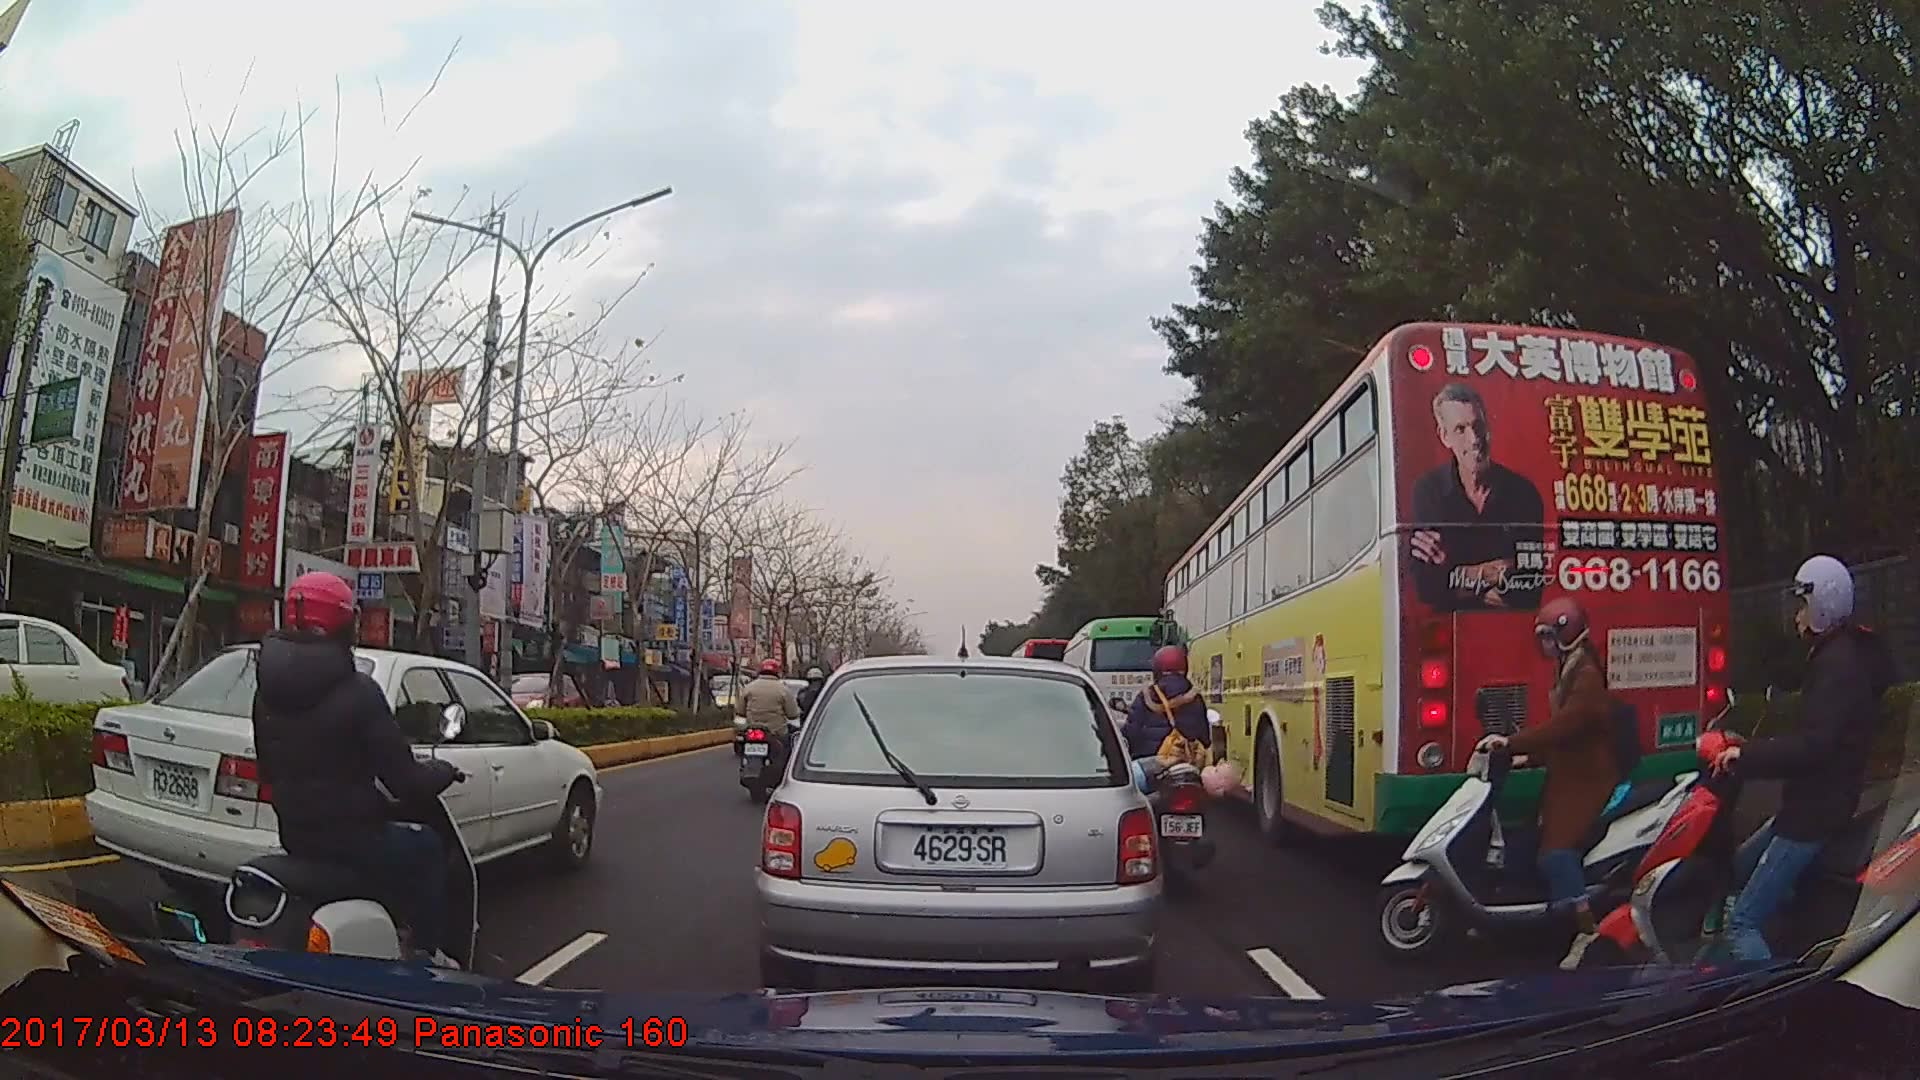rider: (1597, 556, 1918, 1007), (1363, 593, 1711, 970), (225, 567, 484, 992), (1114, 648, 1238, 891), (737, 657, 798, 805)
vehicle: (1159, 319, 1730, 846), (84, 634, 603, 921), (750, 656, 1162, 991), (0, 613, 147, 757), (1059, 615, 1172, 756), (480, 669, 587, 737)
